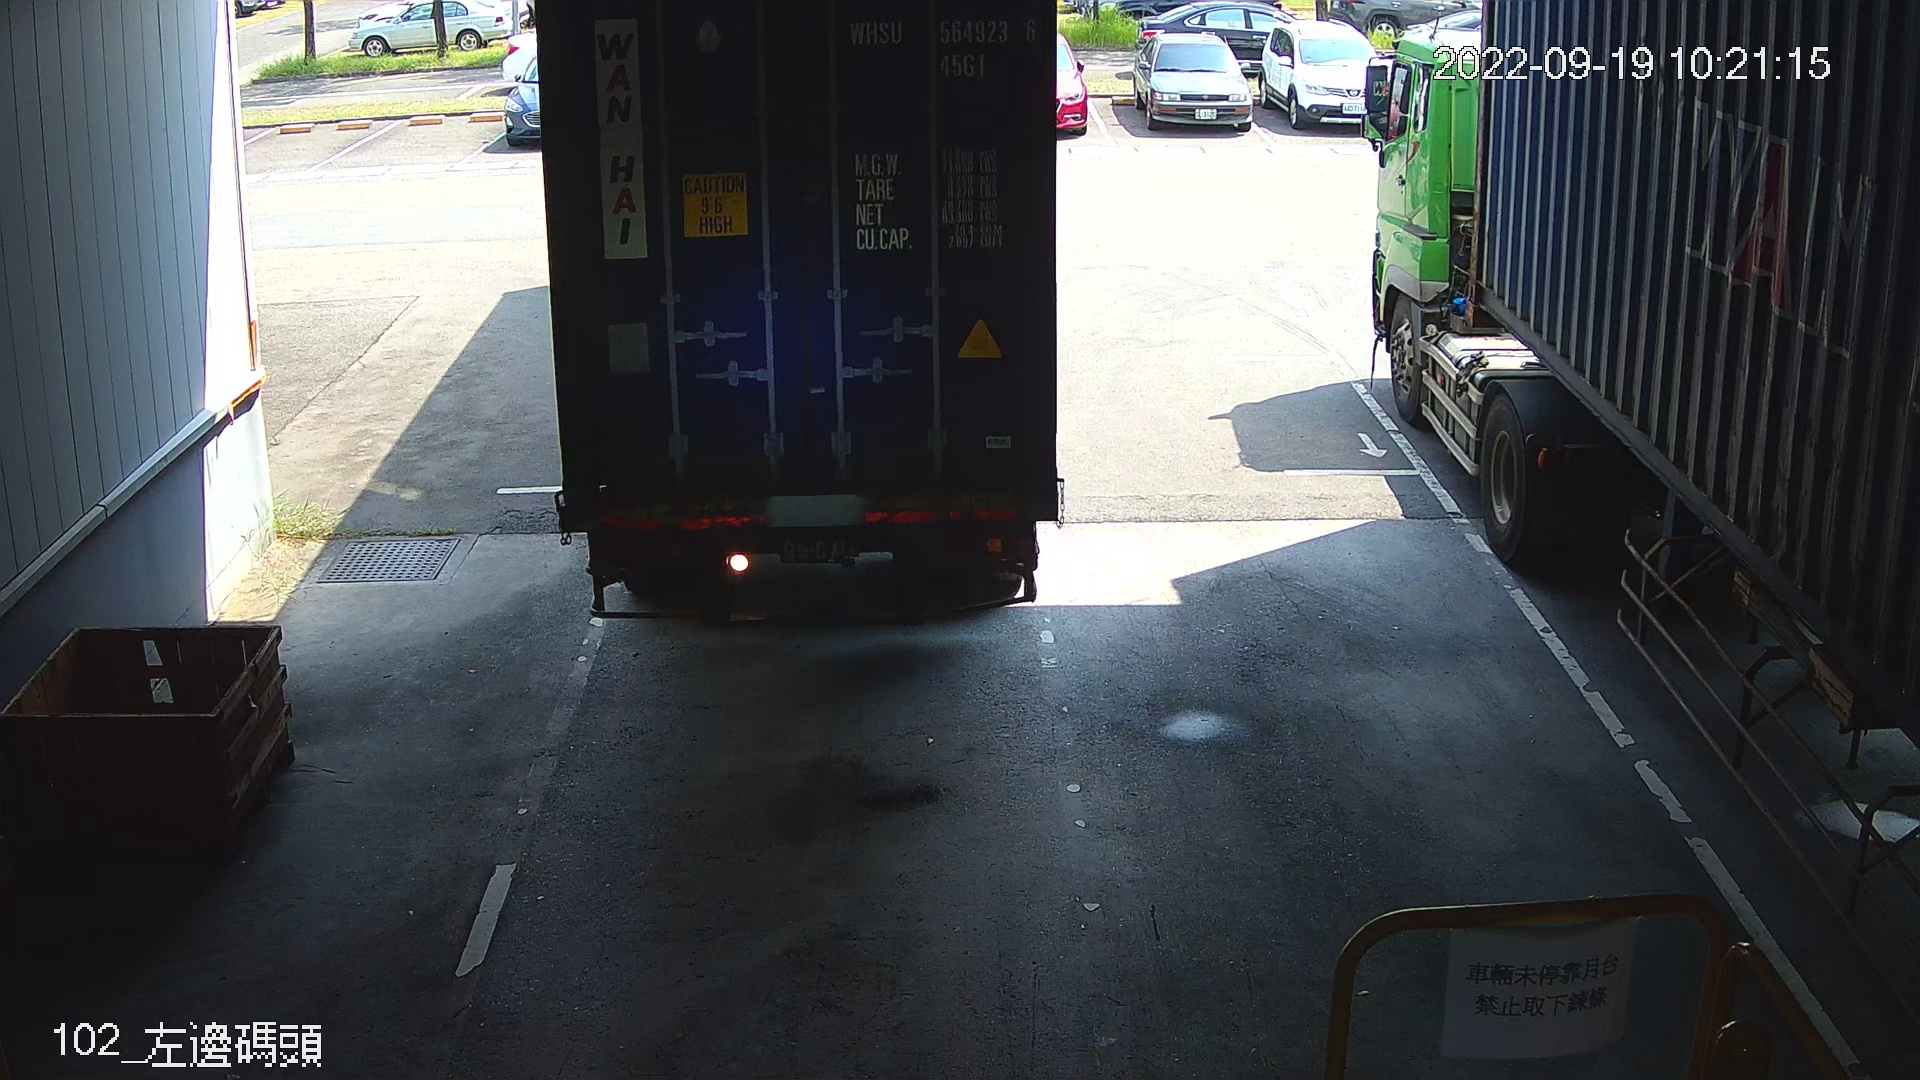container: (841, 8, 1044, 84)
